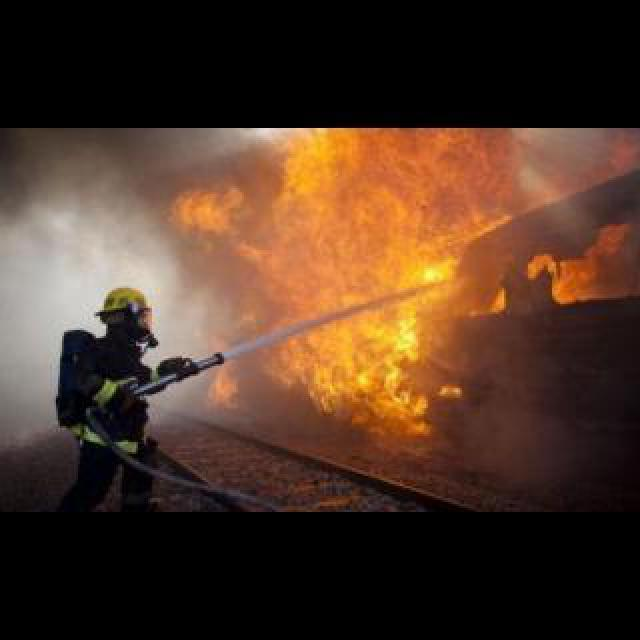Fire: (176, 128, 542, 436)
